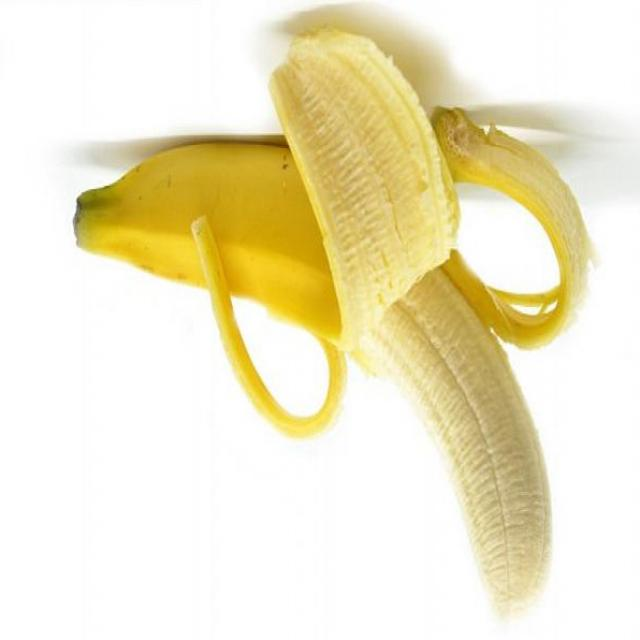banana: (67, 125, 597, 628)
